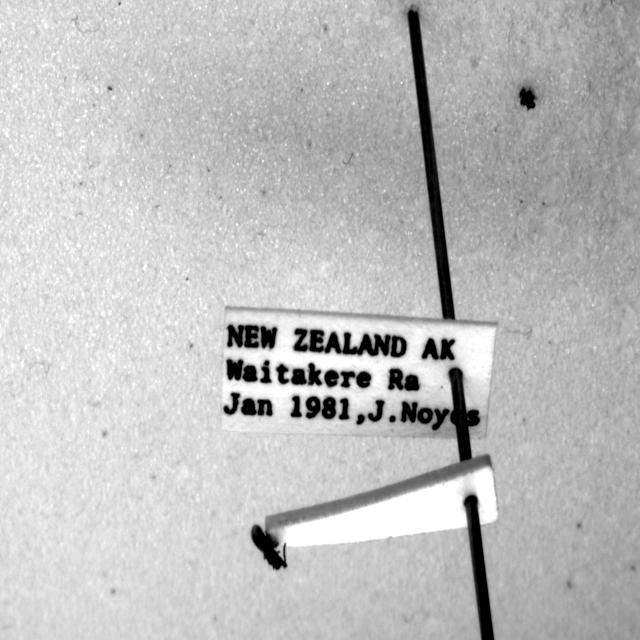typed_label: (221, 308, 496, 439)
